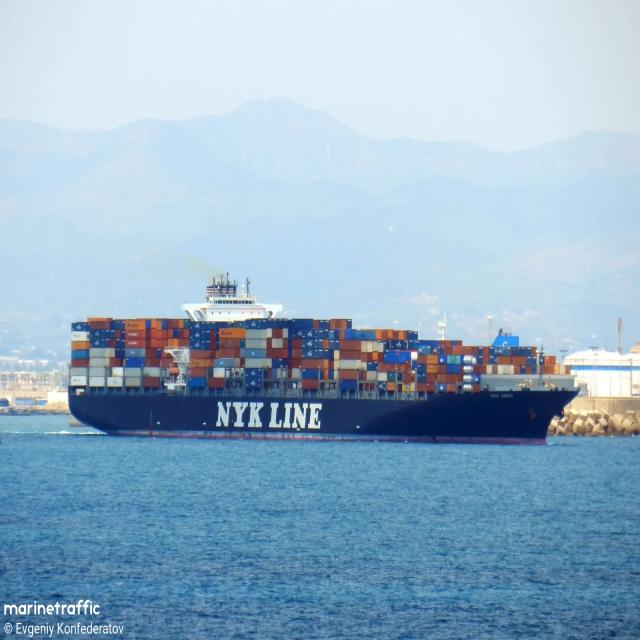Cargo: (68, 275, 579, 443)
